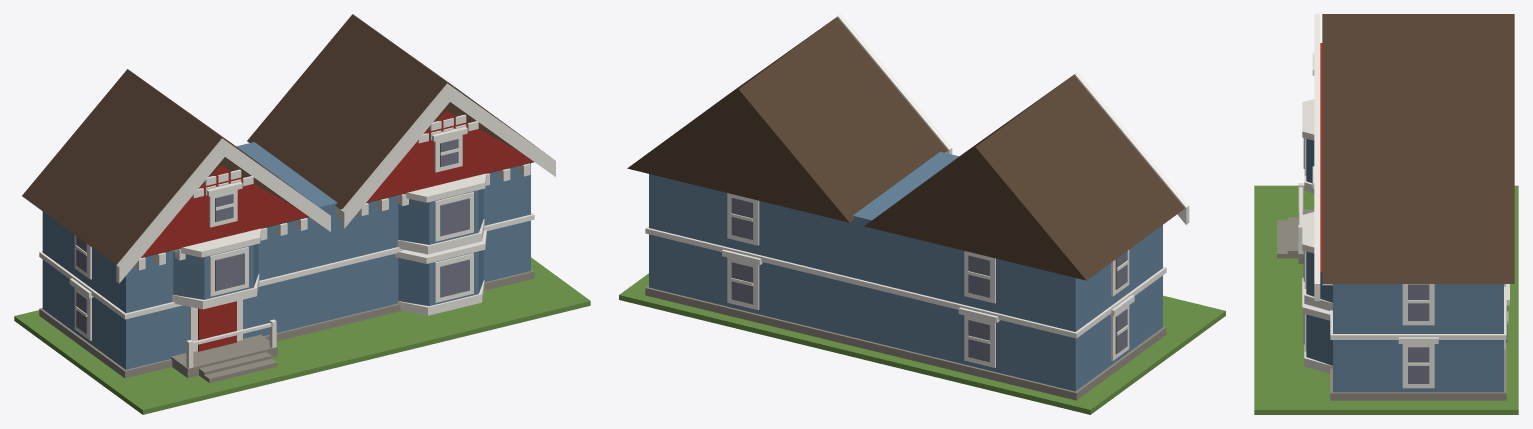
The model's file is house-2x1-2f-third-victorian-a.glb.
3 views of the same model, side by side, from view 1: azimuth 30°, elevation 25°; view 2: azimuth 150°, elevation 25°; view 3: azimuth 270°, elevation 25° (orthographic). The views are drawn at different scales.
Parts seen in each view (by area): view 1: house-2x1-2f-third-victorian-a; view 2: house-2x1-2f-third-victorian-a; view 3: house-2x1-2f-third-victorian-a.
Part boxes in pixels (x1,y1,x2,y2): house-2x1-2f-third-victorian-a: (14,14,590,414); house-2x1-2f-third-victorian-a: (619,14,1225,414); house-2x1-2f-third-victorian-a: (1254,14,1518,414).
Size of the model in its own units: 1.99 by 0.96 by 0.99.
Materials: 1 (1 with a texture image).
